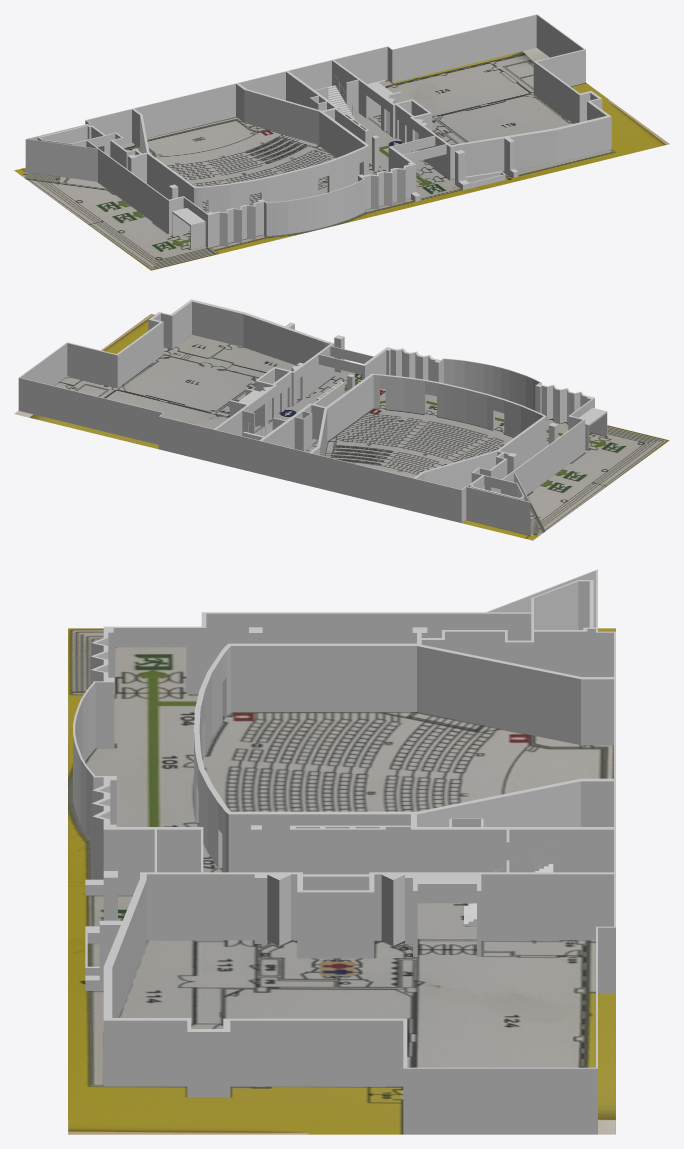
File: map-E(line)02test.fbx
3 renders of one model, top to bottom at view 1: azimuth 30°, elevation 25°; view 2: azimuth 150°, elevation 25°; view 3: azimuth 270°, elevation 25°, orthographic. The views are drawn at different scales.
Parts seen in each view (by area): view 1: Line001, x-ray, StraightStair001; view 2: Line001, x-ray; view 3: Line001, x-ray.
Part boxes in pixels (x1,y1,x2,y2): Line001: (25,14,611,249); x-ray: (14,48,669,270); StraightStair001: (317,76,356,120); Line001: (18,299,607,535); x-ray: (14,314,669,540); Line001: (73,569,615,1134); x-ray: (68,628,615,1134).
Size of the model in its own units: 70000 by 32000 by 4264.
Materials: 1 (1 with a texture image).
